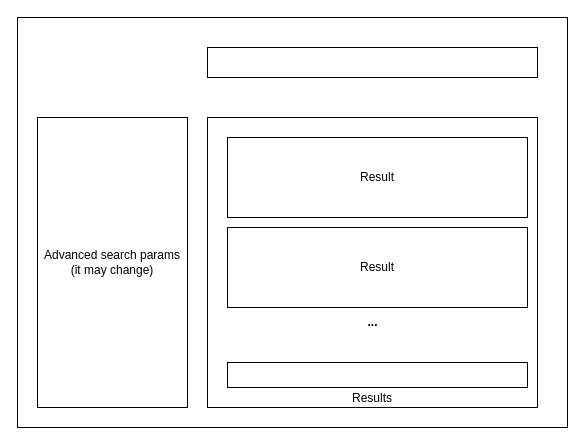
Some shapes in this 585 by 445 pixel diagram are drawn without their labels. Here are the shapes that lost their labels. From the top down, the box of each, then its label:
(206, 46, 538, 78): SearchBar (Title for the first approach)
(226, 362, 528, 388): Results' nav bar (arrows/next-prev/page number...)
